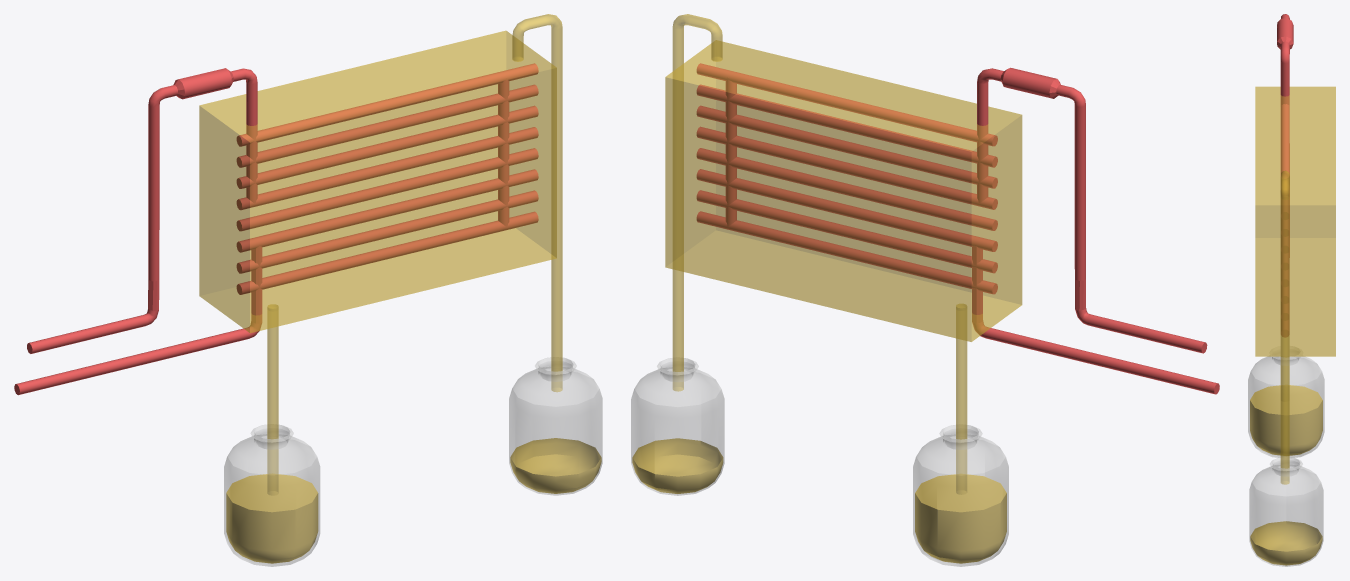
The model's file is hemodialysis.fbx.
3 renders of one model, left to right at view 1: azimuth 30°, elevation 25°; view 2: azimuth 150°, elevation 25°; view 3: azimuth 270°, elevation 25°, orthographic. The views are drawn at different scales.
Visible parts, largest first — view 1: pCube2, polySurface1, polySurface3, polySurface2, pCylinder10, pCylinder5, polySurface4, pCylinder8, pCylinder15, pCylinder16, pCylinder11, pCylinder18 (+6 smaller); view 2: pCube2, polySurface1, polySurface3, polySurface2, pCylinder10, pCylinder5, polySurface4, pCylinder8, pCylinder15, pCylinder11, pCylinder16, pCylinder18 (+6 smaller); view 3: pCube2, polySurface3, polySurface1, polySurface2, pCylinder5, polySurface4, pCylinder10, pCylinder11.
Part boxes in pixels (x1,y1,x2,y2): pCube2: (199, 30, 556, 333); polySurface1: (224, 424, 320, 566); polySurface3: (509, 357, 602, 495); polySurface2: (226, 474, 318, 563); pCylinder10: (27, 68, 257, 353); pCylinder5: (512, 14, 562, 391); polySurface4: (510, 438, 601, 493); pCylinder8: (14, 246, 262, 395); pCylinder15: (236, 148, 538, 231); pCylinder16: (236, 169, 538, 252); pCylinder11: (236, 63, 538, 146); pCylinder18: (236, 211, 538, 294); pCube2: (665, 40, 1022, 341); polySurface1: (913, 425, 1008, 566); polySurface3: (631, 358, 724, 495); polySurface2: (915, 474, 1006, 563); pCylinder10: (977, 67, 1207, 353); pCylinder5: (672, 14, 722, 391); polySurface4: (632, 438, 723, 493); pCylinder8: (972, 245, 1219, 394); pCylinder15: (696, 148, 997, 230); pCylinder11: (696, 63, 997, 146); pCylinder16: (696, 169, 997, 251); pCylinder18: (696, 211, 997, 294); pCube2: (1255, 86, 1335, 356); polySurface3: (1249, 457, 1323, 566); polySurface1: (1248, 346, 1324, 457); polySurface2: (1250, 385, 1322, 455); pCylinder5: (1280, 170, 1289, 484); polySurface4: (1250, 521, 1322, 565); pCylinder10: (1277, 14, 1293, 106); pCylinder11: (1280, 104, 1289, 219).
Bounding box in the file's own units: 435 × 357 × 71.88.
